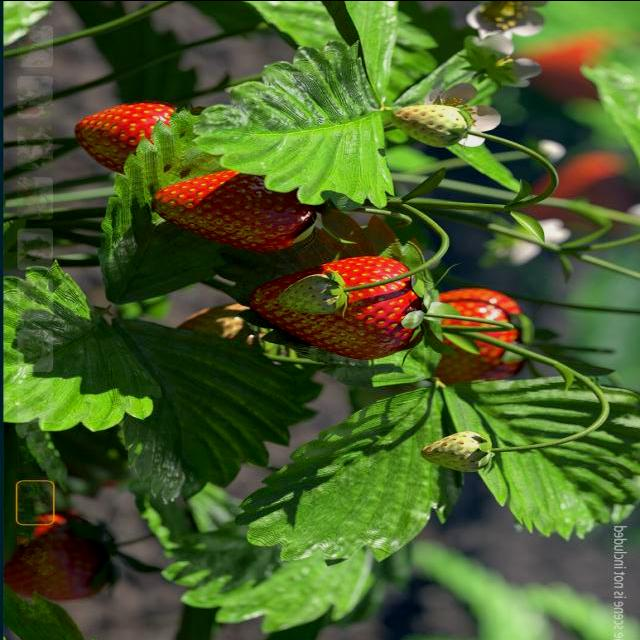ripe: (249, 250, 439, 360), (144, 160, 324, 250), (417, 284, 538, 398), (70, 91, 192, 183), (2, 524, 121, 602)
unripe: (269, 269, 356, 322), (417, 426, 502, 478), (392, 98, 470, 150)
